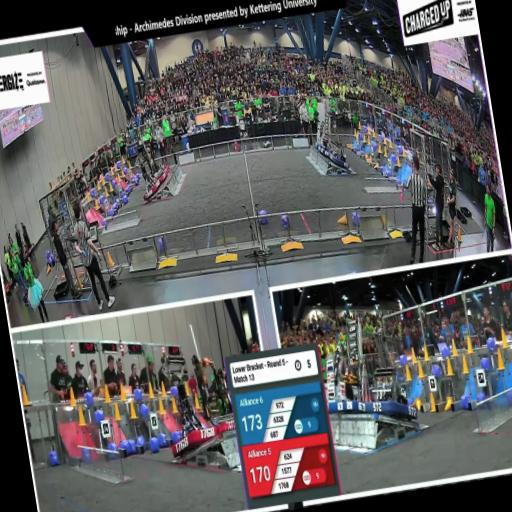robot: (151, 350, 219, 456), (324, 314, 376, 418), (358, 337, 420, 423), (190, 334, 240, 434), (320, 347, 346, 414), (134, 156, 164, 202), (140, 140, 168, 187), (314, 108, 337, 158), (327, 138, 351, 170), (314, 128, 330, 154), (154, 157, 172, 175)
